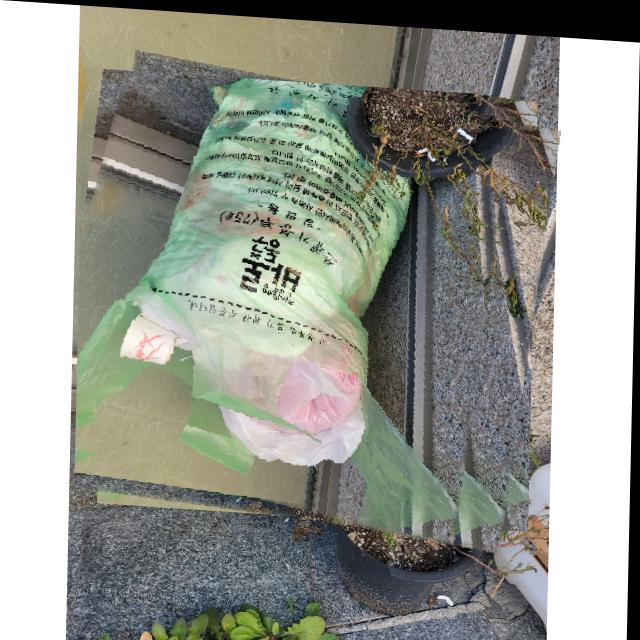general_trashbag: (77, 75, 471, 528)
